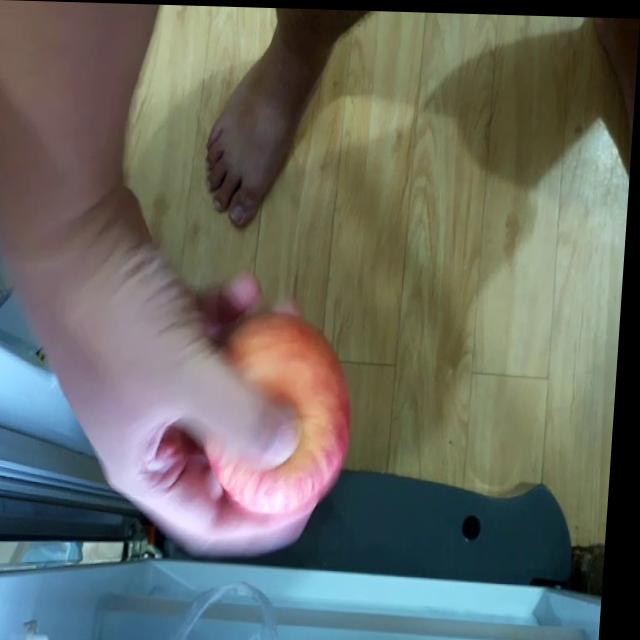apple: (210, 311, 358, 516)
